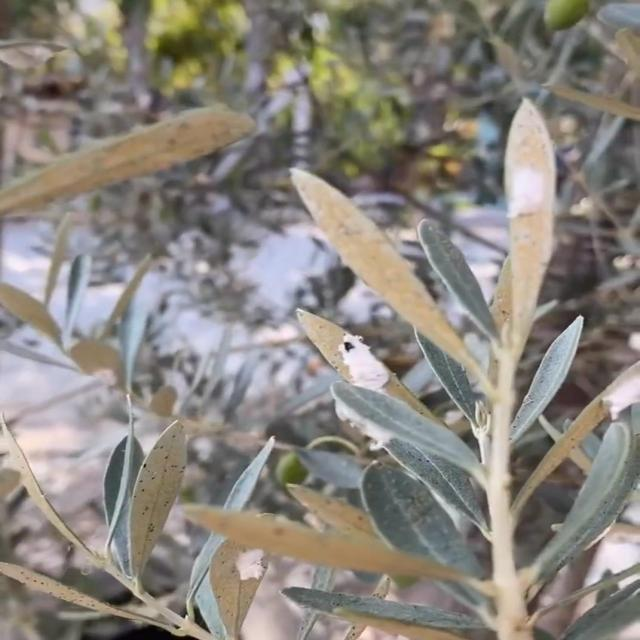Psyllid: (296, 308, 414, 401), (209, 542, 267, 640)
